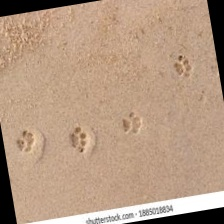cat: (170, 51, 200, 84), (66, 125, 94, 158), (118, 110, 147, 140)
